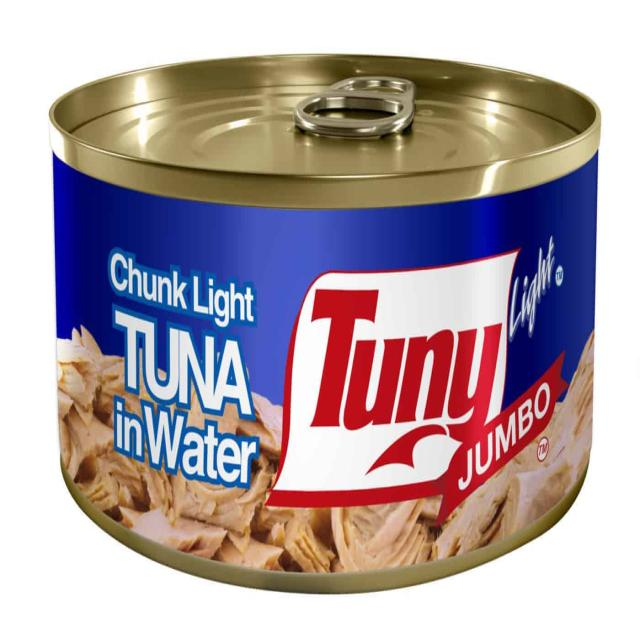Lata: (47, 69, 592, 575)
